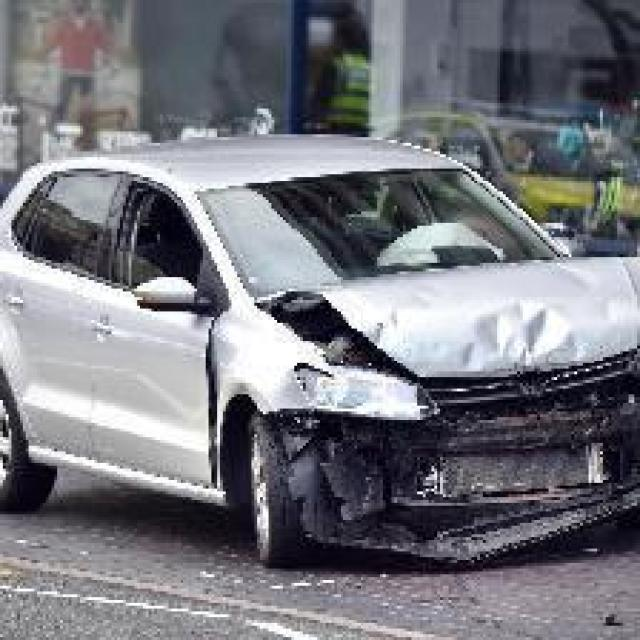damaged: (202, 288, 638, 574)
